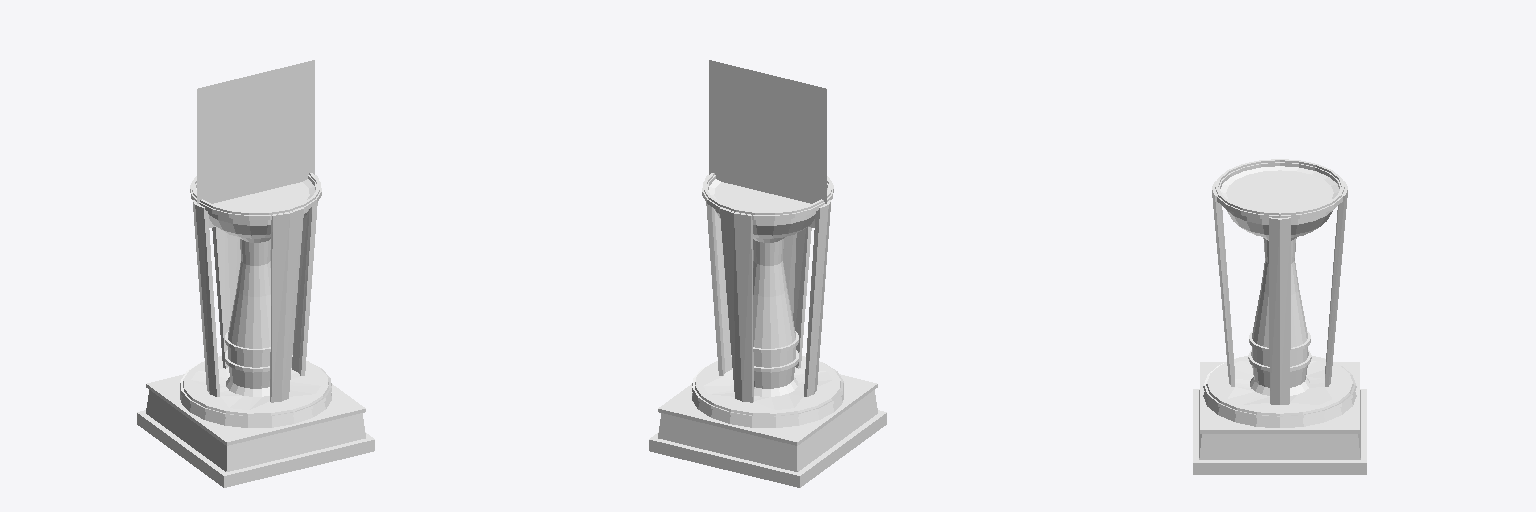
Rendered from Torch.obj.
The picture shows the model from 3 angles: view 1: azimuth 30°, elevation 25°; view 2: azimuth 150°, elevation 25°; view 3: azimuth 270°, elevation 25°; orthographic projection.
Visible parts, largest first — view 1: structure_structure, fire_fire; view 2: structure_structure, fire_fire; view 3: structure_structure.
Boxes of the visible parts, <box> form: structure_structure: <box>137,173,374,487</box>; fire_fire: <box>197,60,314,227</box>; structure_structure: <box>649,173,886,487</box>; fire_fire: <box>709,60,826,227</box>; structure_structure: <box>1193,159,1366,474</box>.
Size of the model in its own units: 6.71 by 15.41 by 6.71.